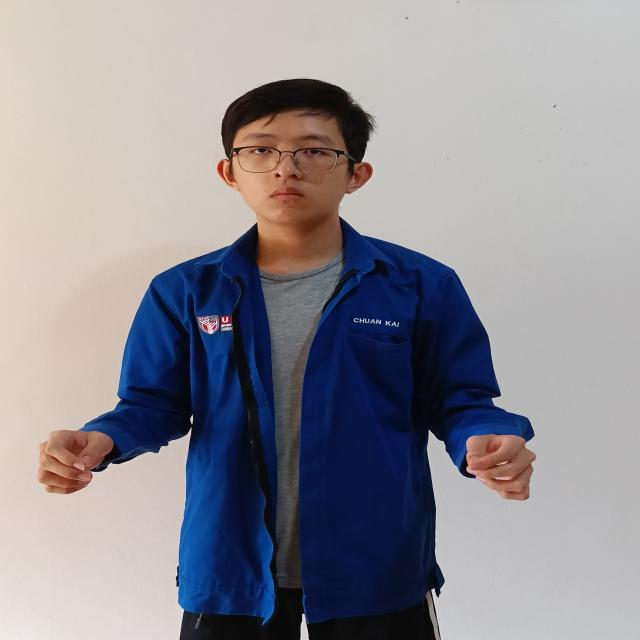person_with_labcoat: (41, 80, 532, 623), (474, 435, 535, 499)
